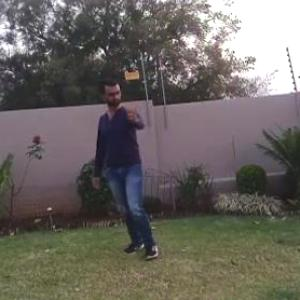takeoff-hand: (121, 97, 143, 127)
